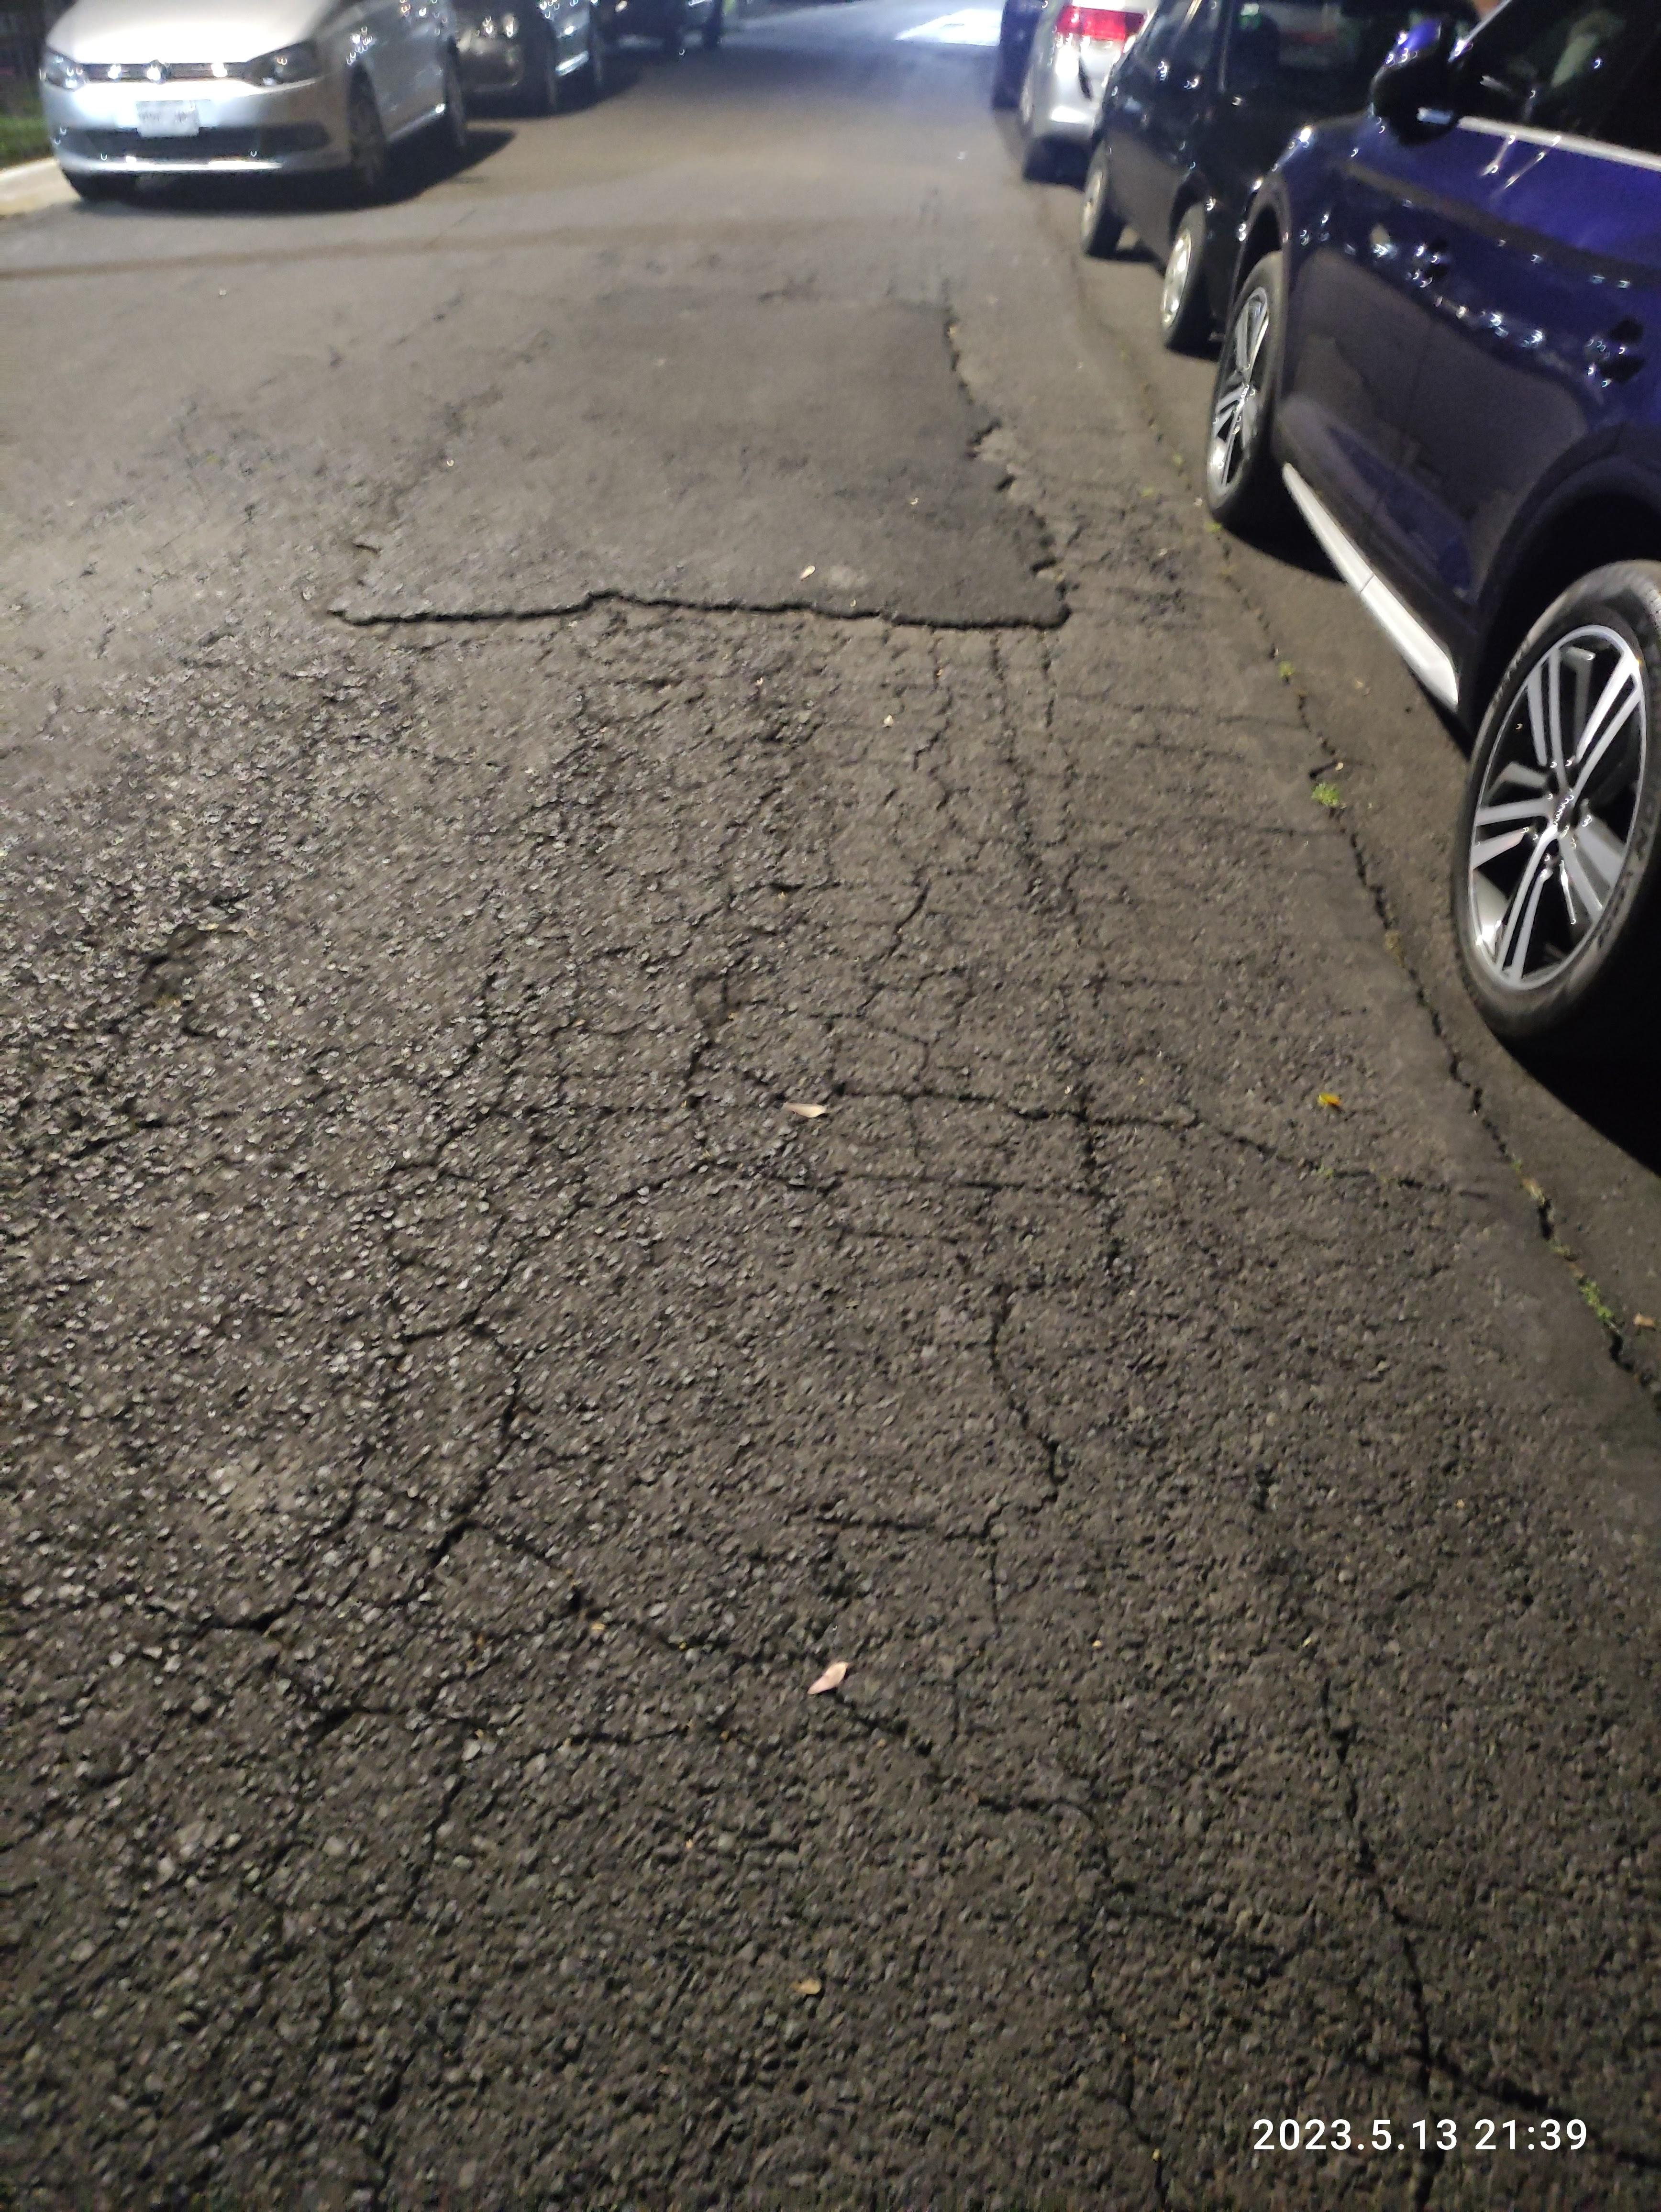alligator-crack: (318, 618, 1159, 2003)
crack: (1204, 527, 1652, 1450)
